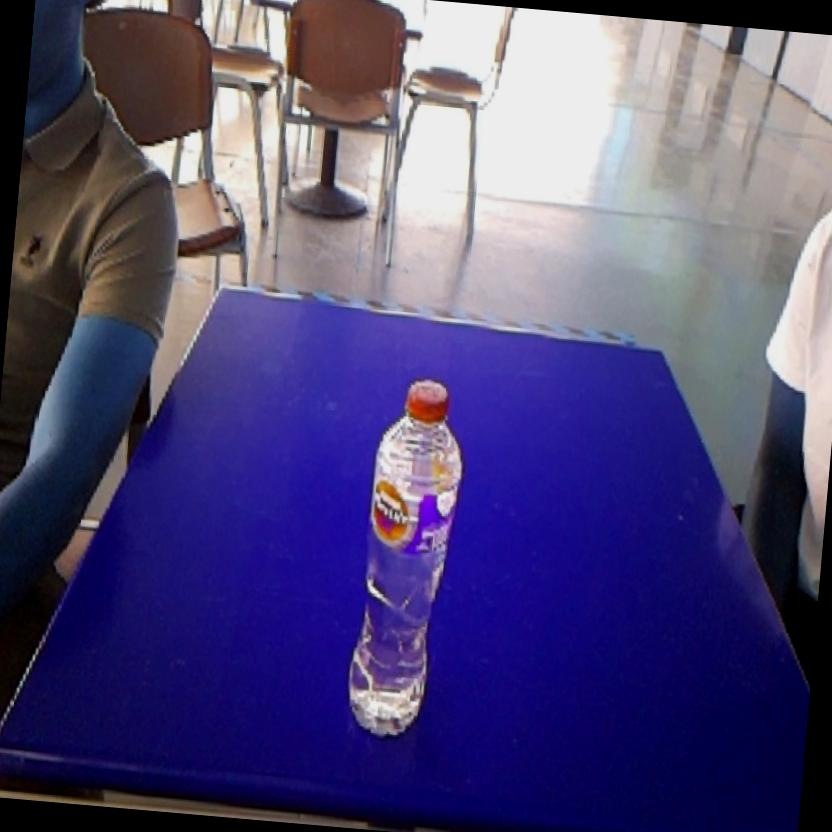good: (336, 361, 476, 750)
